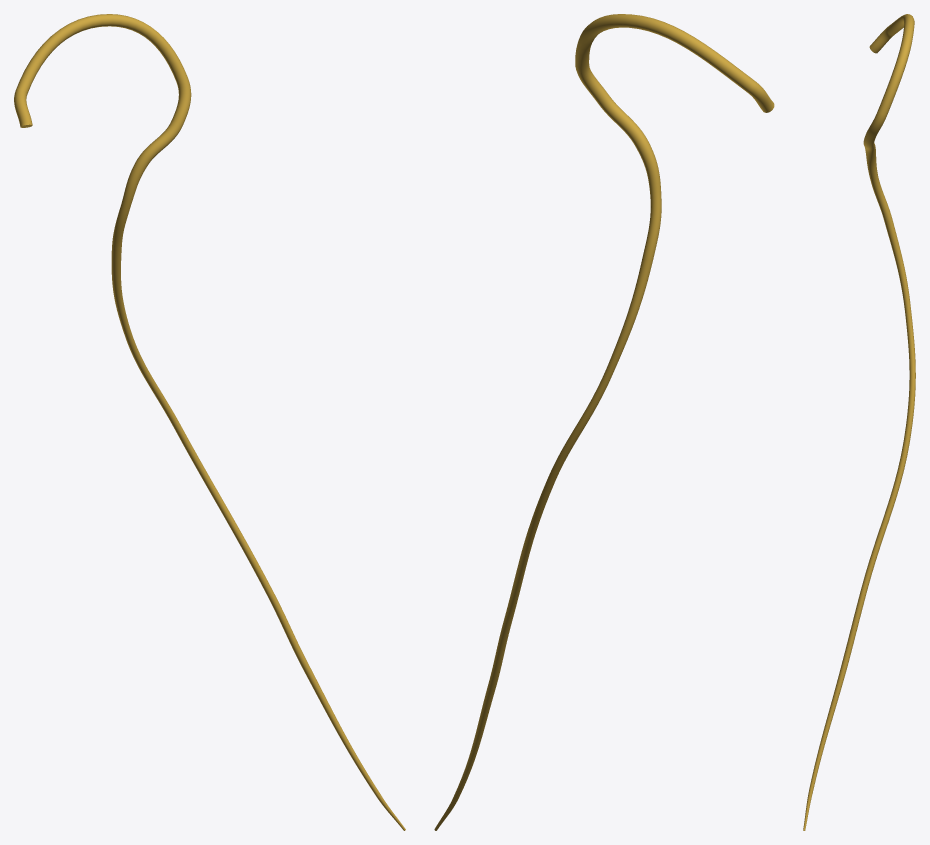
3 views of the same model, side by side, from view 1: azimuth 30°, elevation 25°; view 2: azimuth 150°, elevation 25°; view 3: azimuth 270°, elevation 25° (orthographic). The views are drawn at different scales.
Visible parts, largest first — view 1: 左侧滑车神经; view 2: 左侧滑车神经; view 3: 左侧滑车神经.
Boxes of the visible parts, bbox=[...] form: 左侧滑车神经: bbox=[14, 14, 405, 830]; 左侧滑车神经: bbox=[434, 14, 774, 830]; 左侧滑车神经: bbox=[803, 14, 915, 830].
Bounding box in the file's own units: 0.0471 × 0.1088 × 0.0158.
